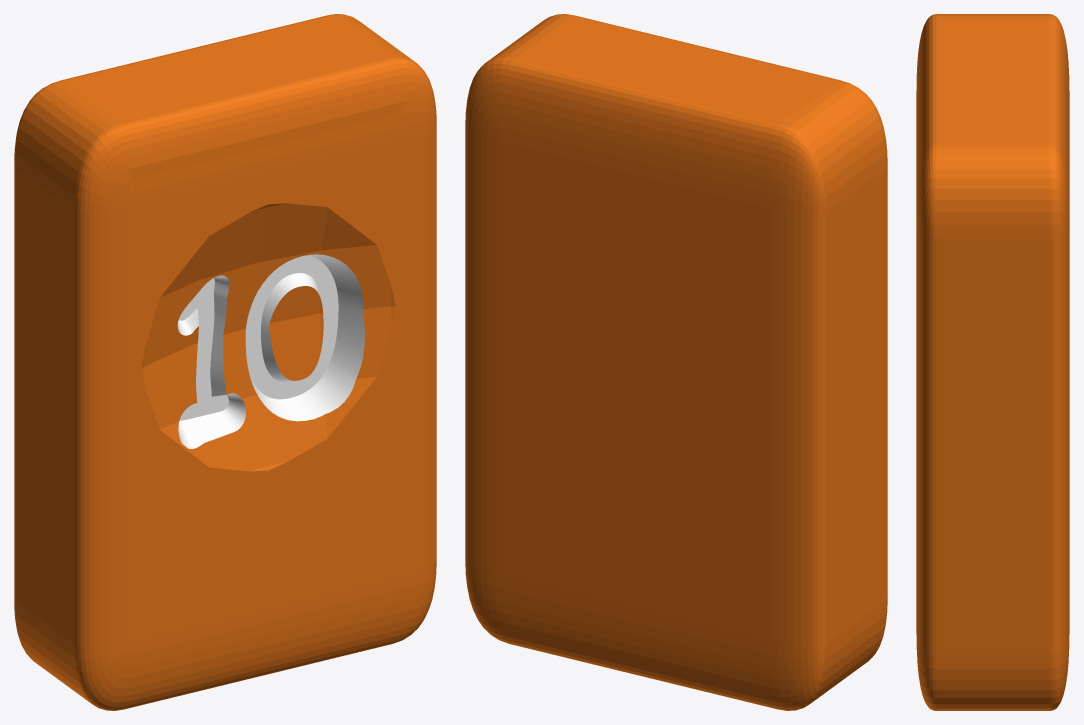
The model's file is Rummikub Card 10.FBX.
3 views of the same model, side by side, from view 1: azimuth 30°, elevation 25°; view 2: azimuth 150°, elevation 25°; view 3: azimuth 270°, elevation 25° (orthographic). The views are drawn at different scales.
Visible parts, largest first — view 1: CardModel; view 2: CardModel; view 3: CardModel.
Boxes of the visible parts, box(x1,y1,x2,y2) form: CardModel: box(14, 14, 436, 710); CardModel: box(465, 14, 887, 710); CardModel: box(916, 14, 1069, 710).
Size of the model in its own units: 44.87 by 69.66 by 17.19.
